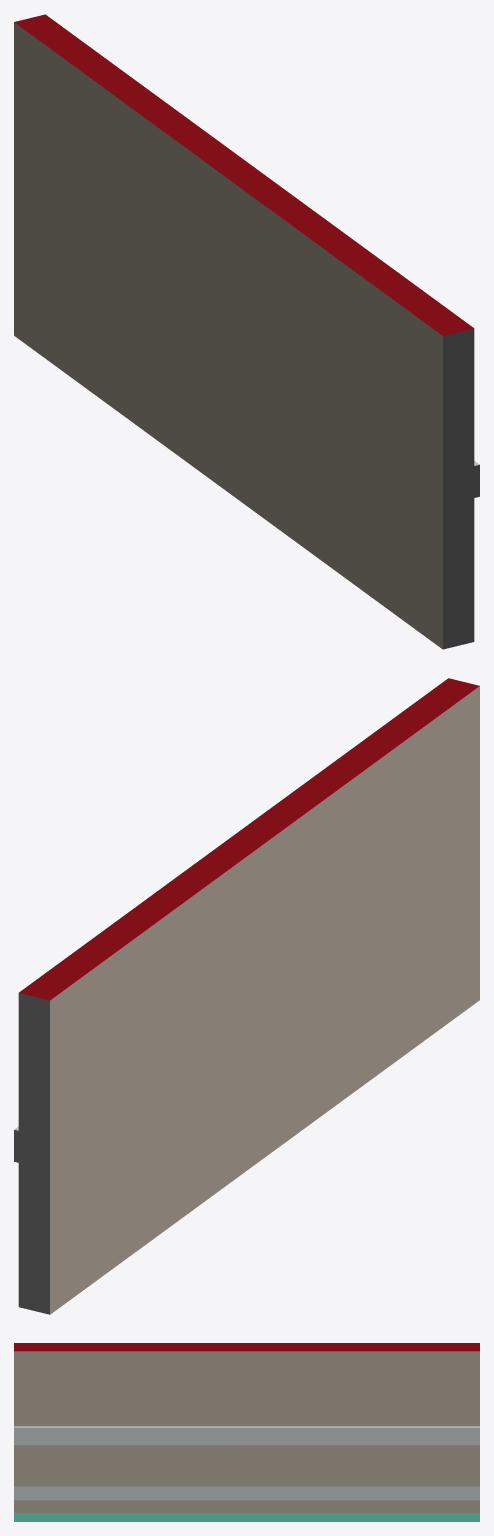
File: emptywall.fbx
3 renders of one model, top to bottom at view 1: azimuth 30°, elevation 25°; view 2: azimuth 150°, elevation 25°; view 3: azimuth 270°, elevation 25°, orthographic. The views are drawn at different scales.
Visible parts, largest first — view 1: wall; view 2: wall; view 3: wall.
Boxes of the visible parts, x1,y1,x2,y2 form: wall: (14, 14, 479, 649); wall: (14, 678, 479, 1314); wall: (14, 1343, 479, 1521).
Bounding box in the file's own units: 29.21 × 236 × 585.
